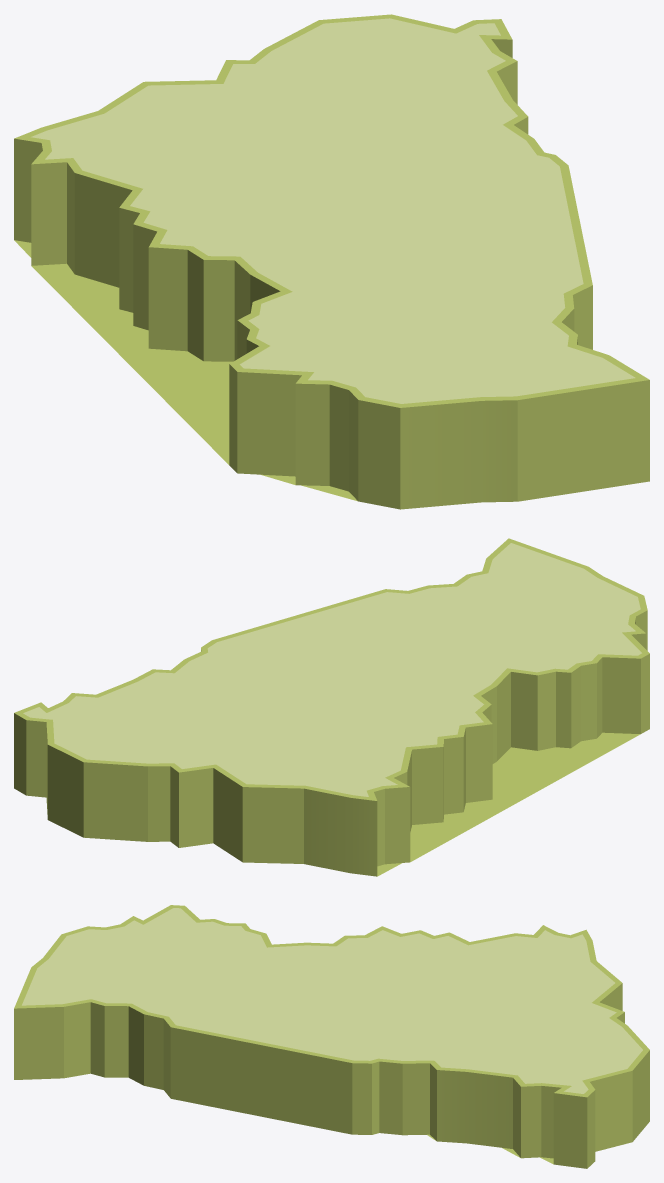
File: Islands5.002.fbx
3 renders of one model, top to bottom at view 1: azimuth 30°, elevation 25°; view 2: azimuth 150°, elevation 25°; view 3: azimuth 270°, elevation 25°, orthographic. The views are drawn at different scales.
Parts seen in each view (by area): view 1: Island5.002; view 2: Island5.002; view 3: Island5.002.
Part boxes in pixels (box(x1,y1,x2,y2)): Island5.002: box(14, 14, 649, 509); Island5.002: box(14, 538, 649, 876); Island5.002: box(14, 905, 649, 1168).
Bounding box in the file's own units: 144 × 25 × 201.
